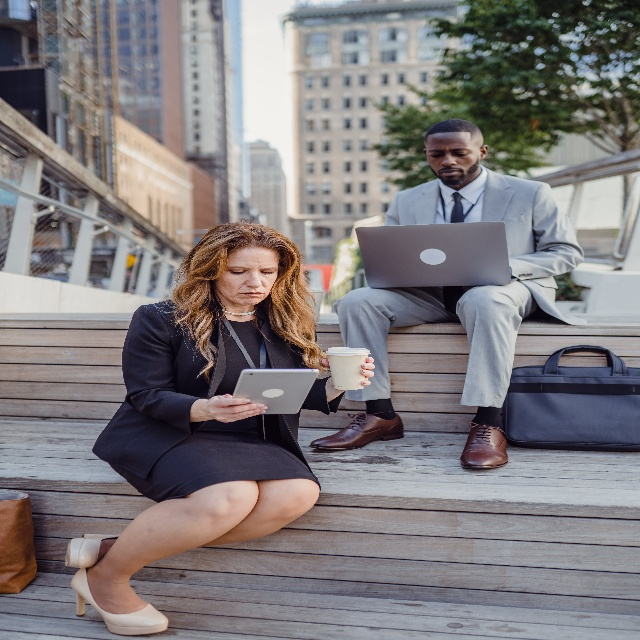Sin_guantes: (206, 393, 268, 423), (359, 356, 375, 388)
